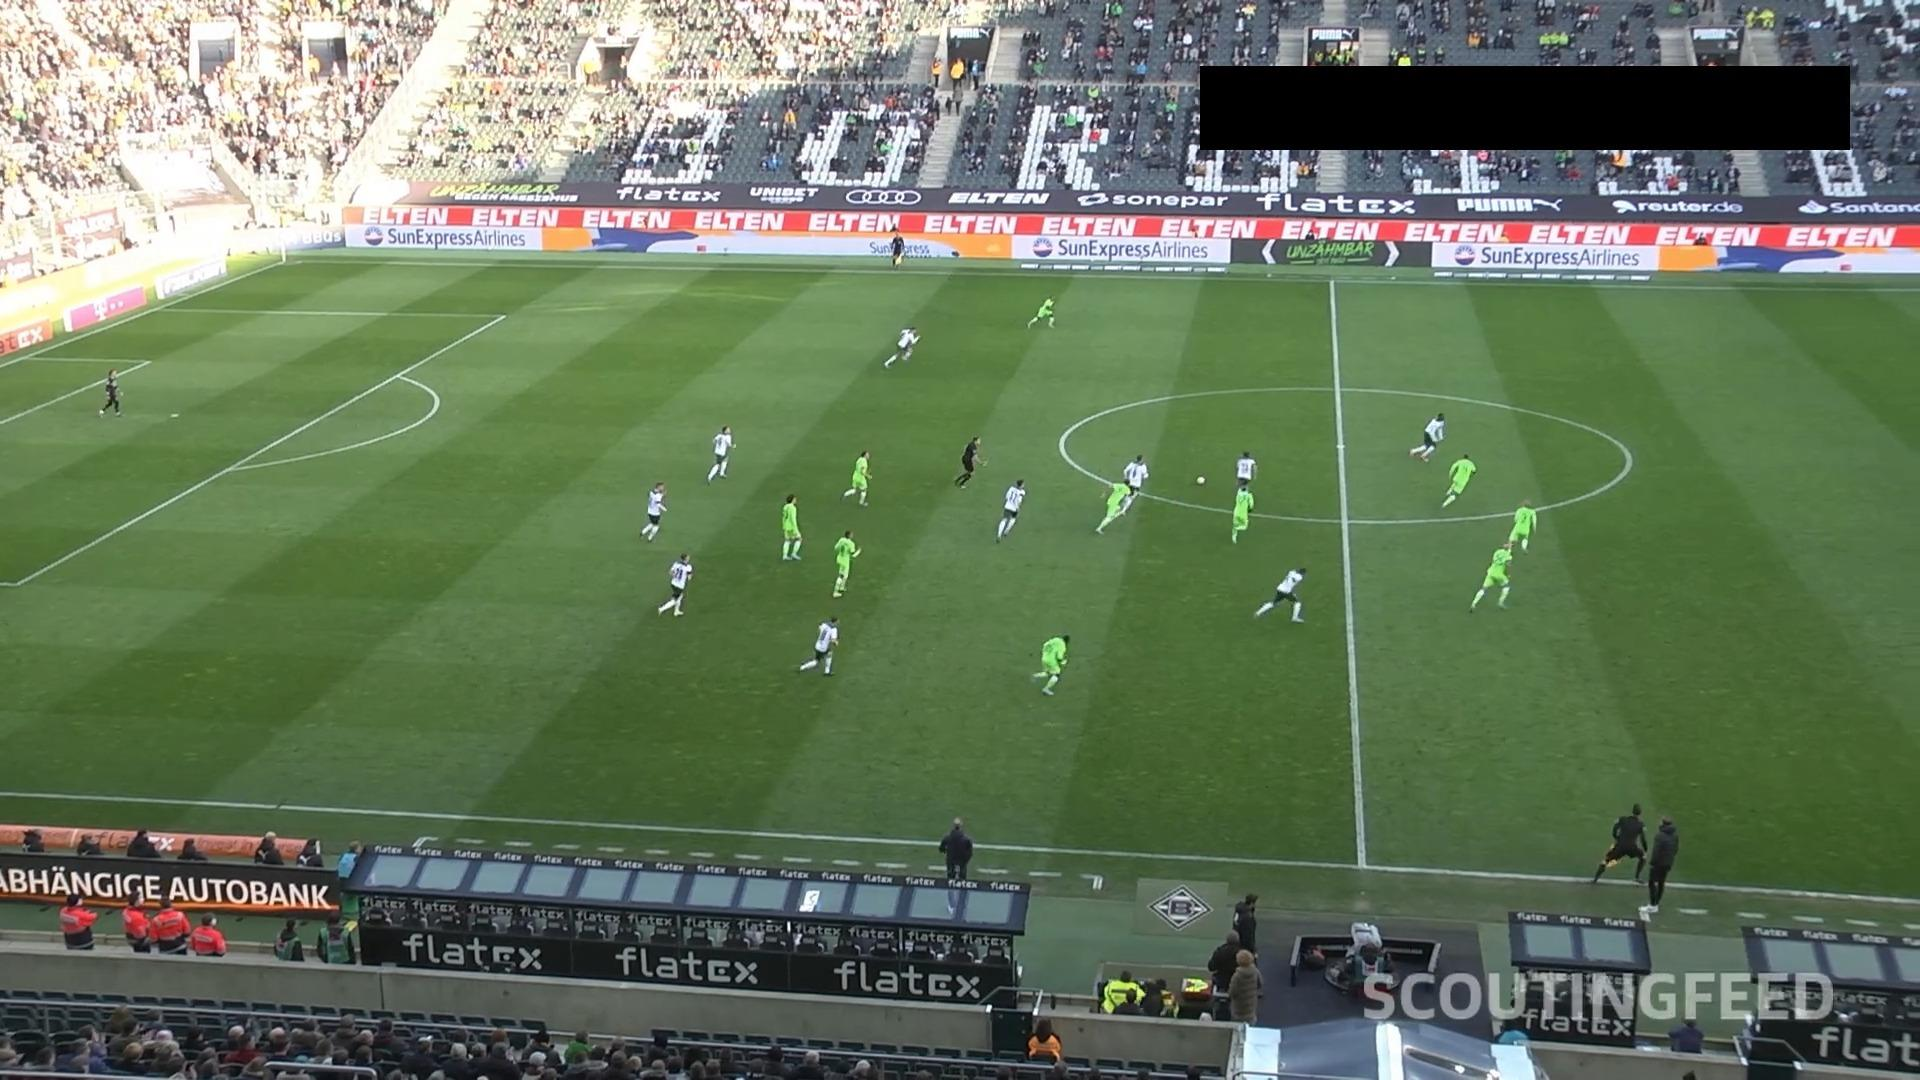ball: (1196, 475, 1205, 484)
coach: (1645, 814, 1678, 912), (938, 816, 973, 881)
player: (1253, 565, 1307, 623), (1468, 541, 1512, 612), (797, 615, 839, 676), (656, 552, 693, 617), (1035, 633, 1070, 696), (1093, 480, 1133, 534), (995, 477, 1026, 542), (1440, 453, 1476, 508), (831, 528, 859, 598), (840, 449, 872, 507), (1409, 412, 1445, 462), (1505, 497, 1536, 555), (639, 481, 667, 542), (1120, 453, 1149, 511), (882, 325, 920, 367), (779, 492, 802, 561), (1229, 482, 1254, 544), (706, 424, 733, 481), (97, 368, 122, 416), (1233, 449, 1257, 493), (1025, 296, 1056, 330)
referee: (1591, 802, 1647, 884), (1231, 892, 1259, 958), (953, 435, 984, 489), (888, 232, 905, 267)
